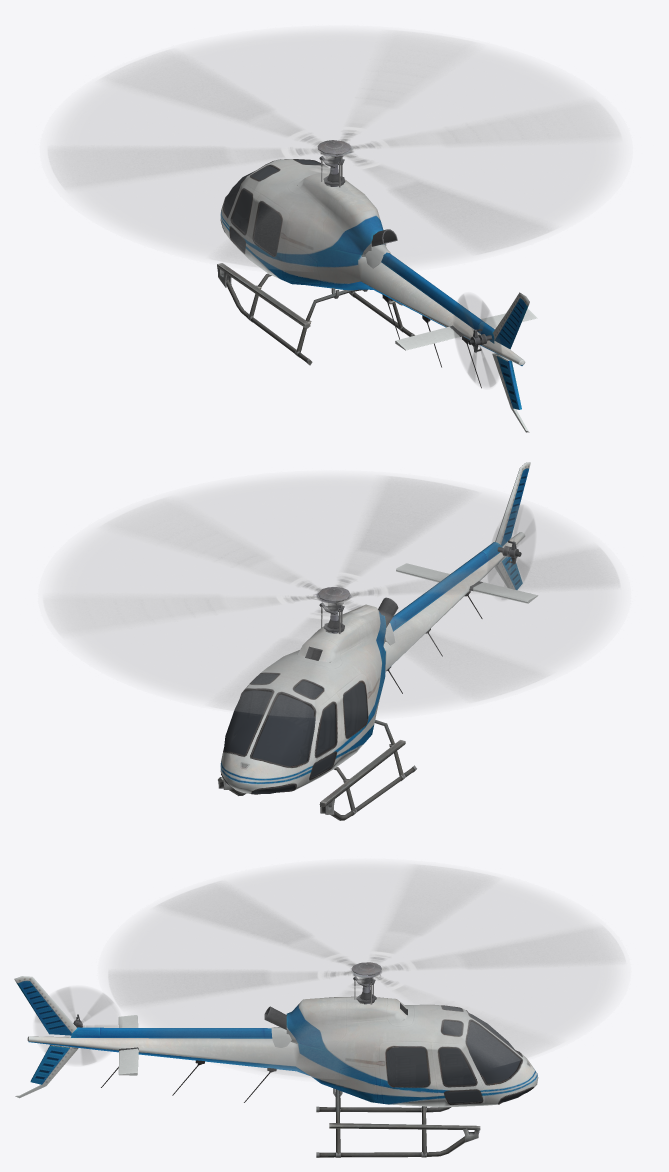
File: Eurocopter_H125_-_Flying.glb
3 renders of one model, top to bottom at view 1: azimuth 30°, elevation 25°; view 2: azimuth 150°, elevation 25°; view 3: azimuth 270°, elevation 25°, orthographic. The views are drawn at different scales.
Visible parts, largest first — view 1: Eurocopter_H125_Flying__LOD4; view 2: Eurocopter_H125_Flying__LOD4; view 3: Eurocopter_H125_Flying__LOD4.
Boxes of the visible parts, x1,y1,x2,y2 form: Eurocopter_H125_Flying__LOD4: (48, 30, 621, 432); Eurocopter_H125_Flying__LOD4: (43, 462, 620, 820); Eurocopter_H125_Flying__LOD4: (14, 864, 624, 1157).
Bounding box in the file's own units: 8.87 × 2.9 × 9.85.
Materials: 3 (3 with a texture image).
